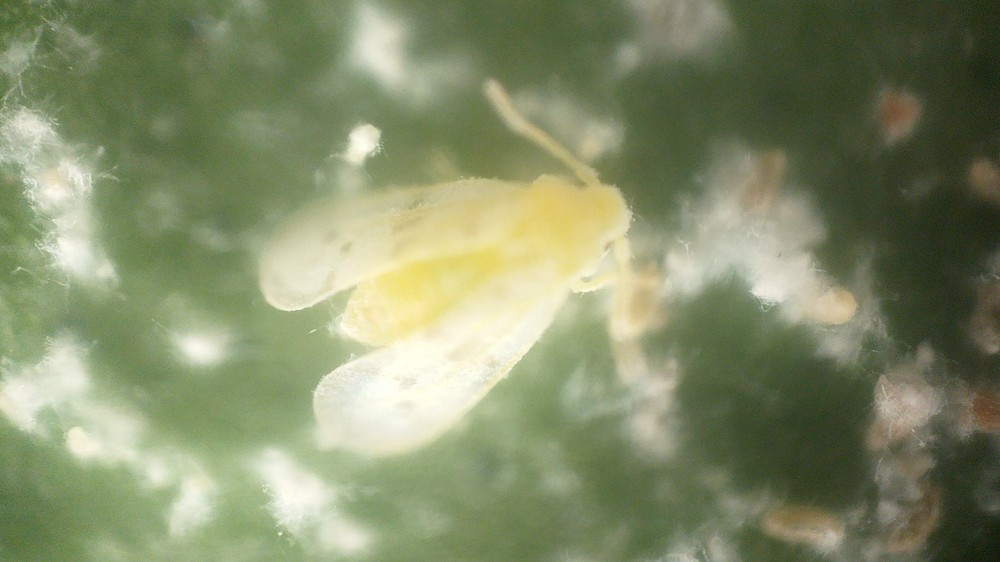Mosca Blanca: (252, 75, 663, 464)
